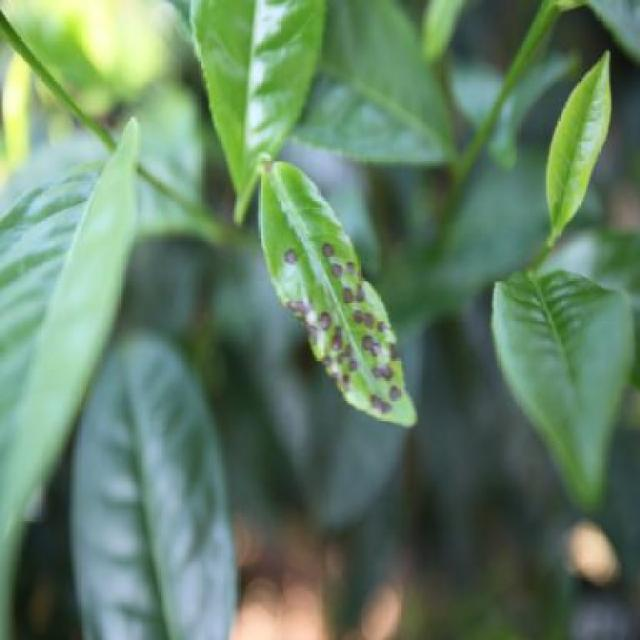Tea Mosquito bug infested leaf: (252, 174, 426, 428)
